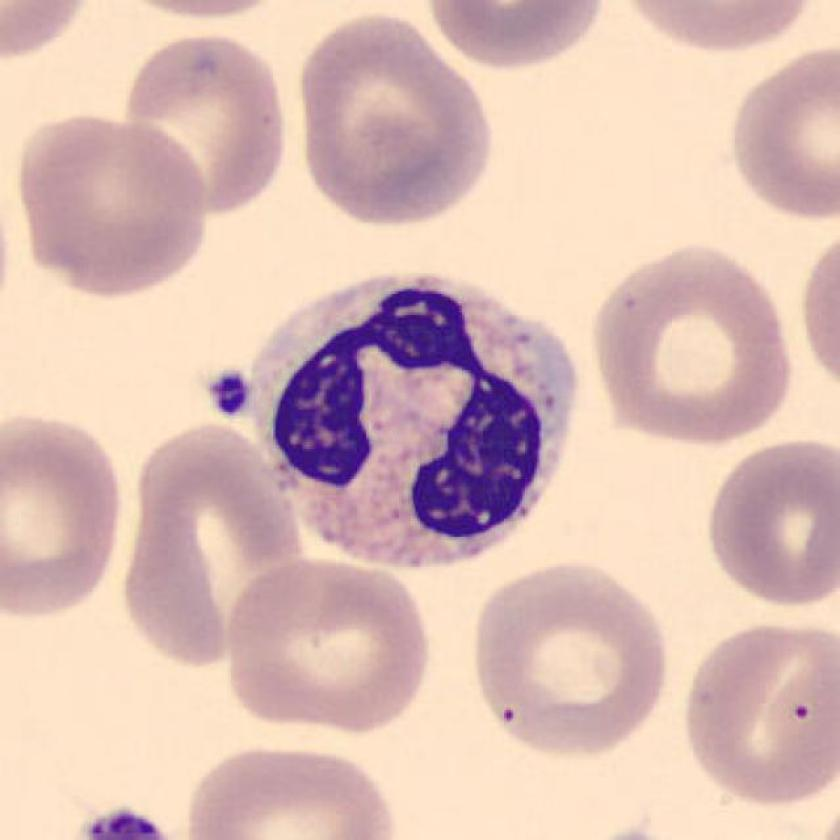neutrophil: (245, 273, 580, 565)
